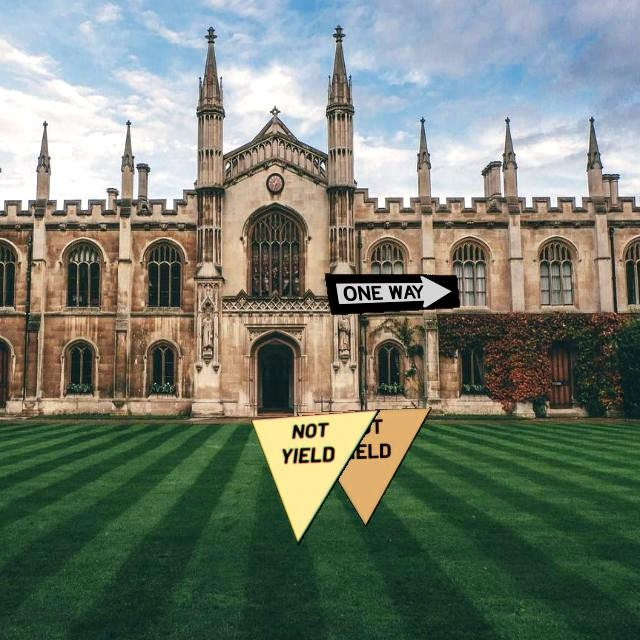NOT_YIELD: (250, 409, 380, 545), (296, 407, 432, 527)
ONE_WAY_ right: (324, 273, 460, 315)
